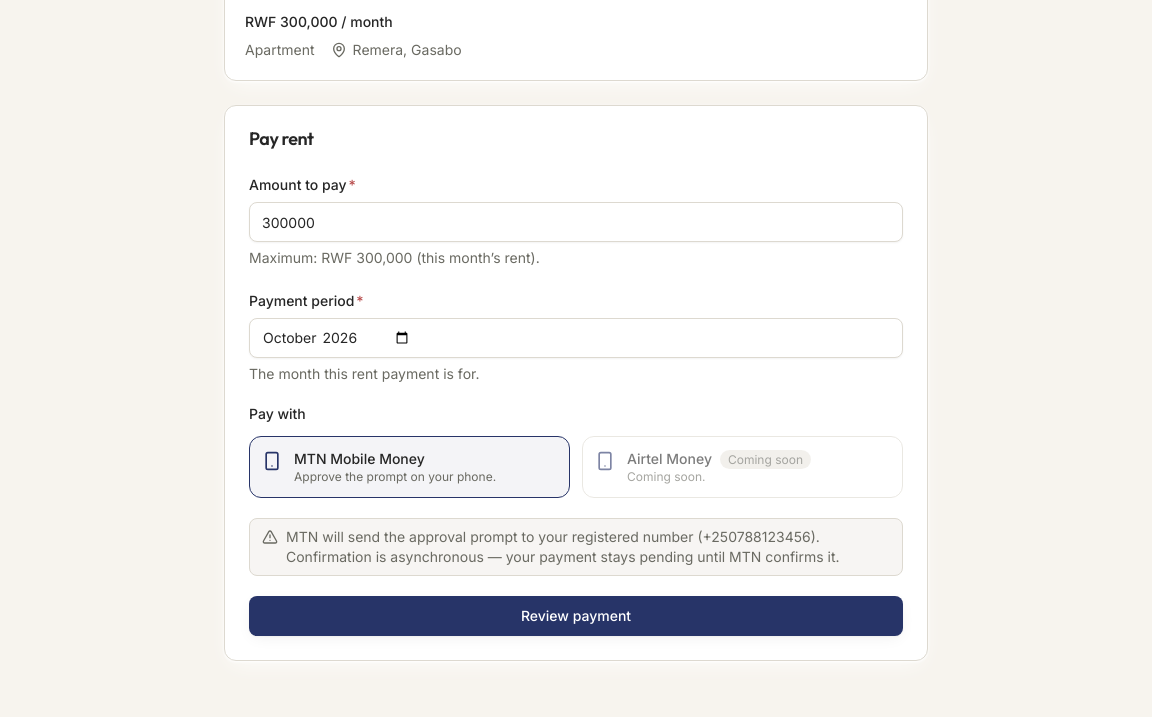
payment creation › handles a 409 idempotency reuse safely
(page scrolled)
Click the button "Review payment" at [576, 616], box 249,596 -> 903,636
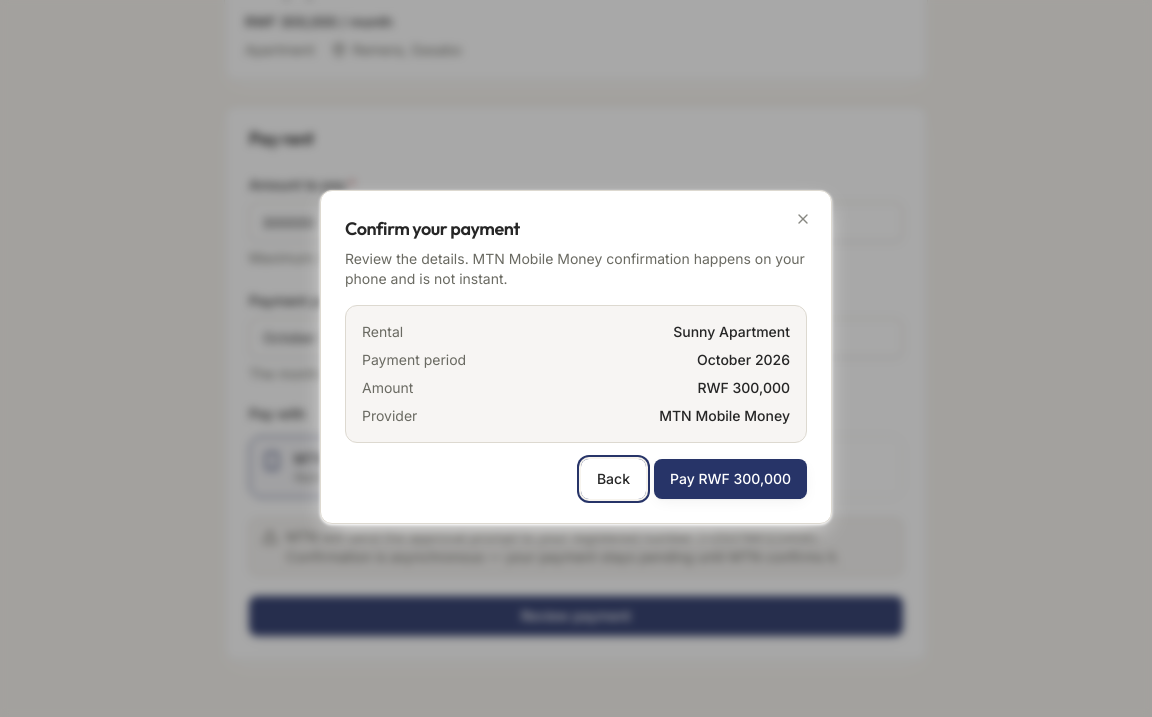
Click the button "Pay RWF 300,000" at [730, 479], box 654,459 -> 807,499
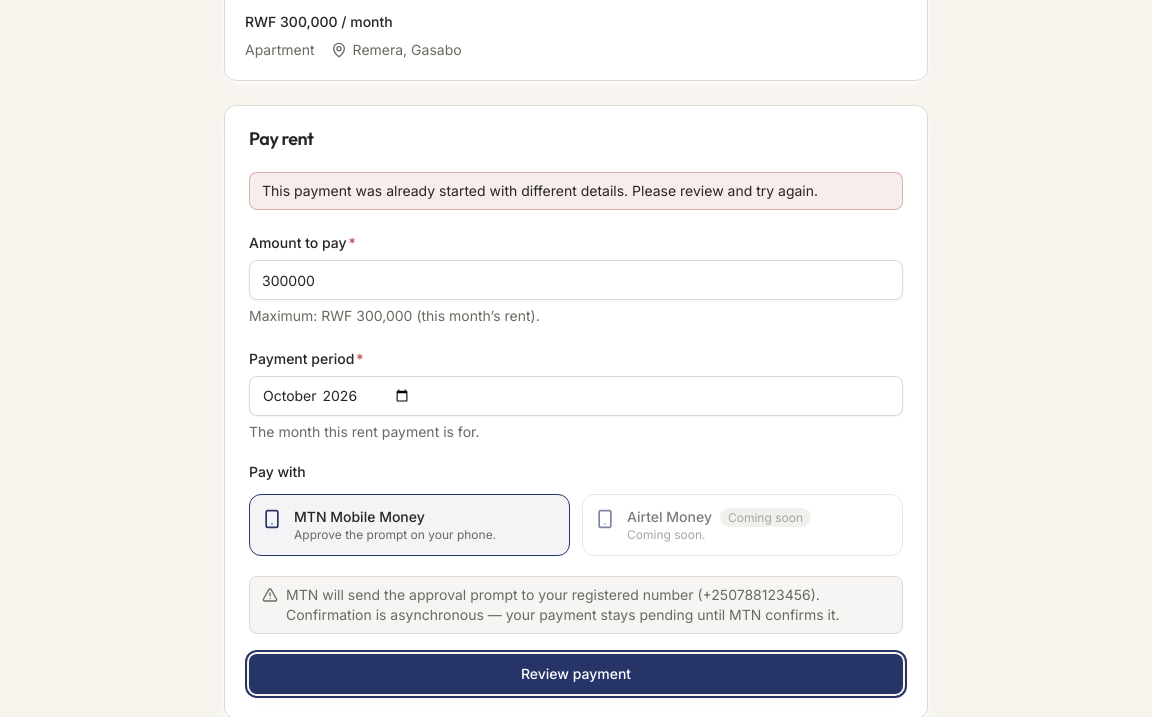
Now the text "already started with different details" is shown, box 262,182 -> 818,199
